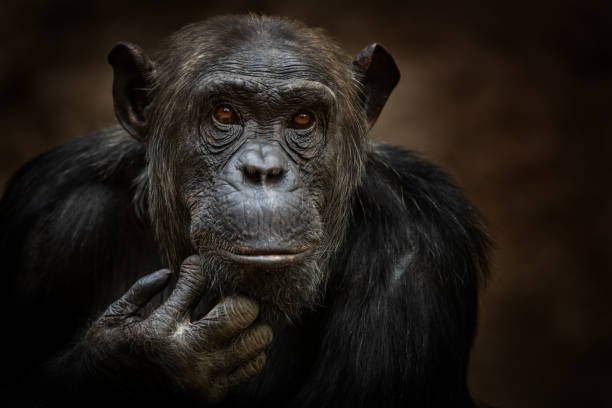chimpanzee: (86, 8, 408, 364)
